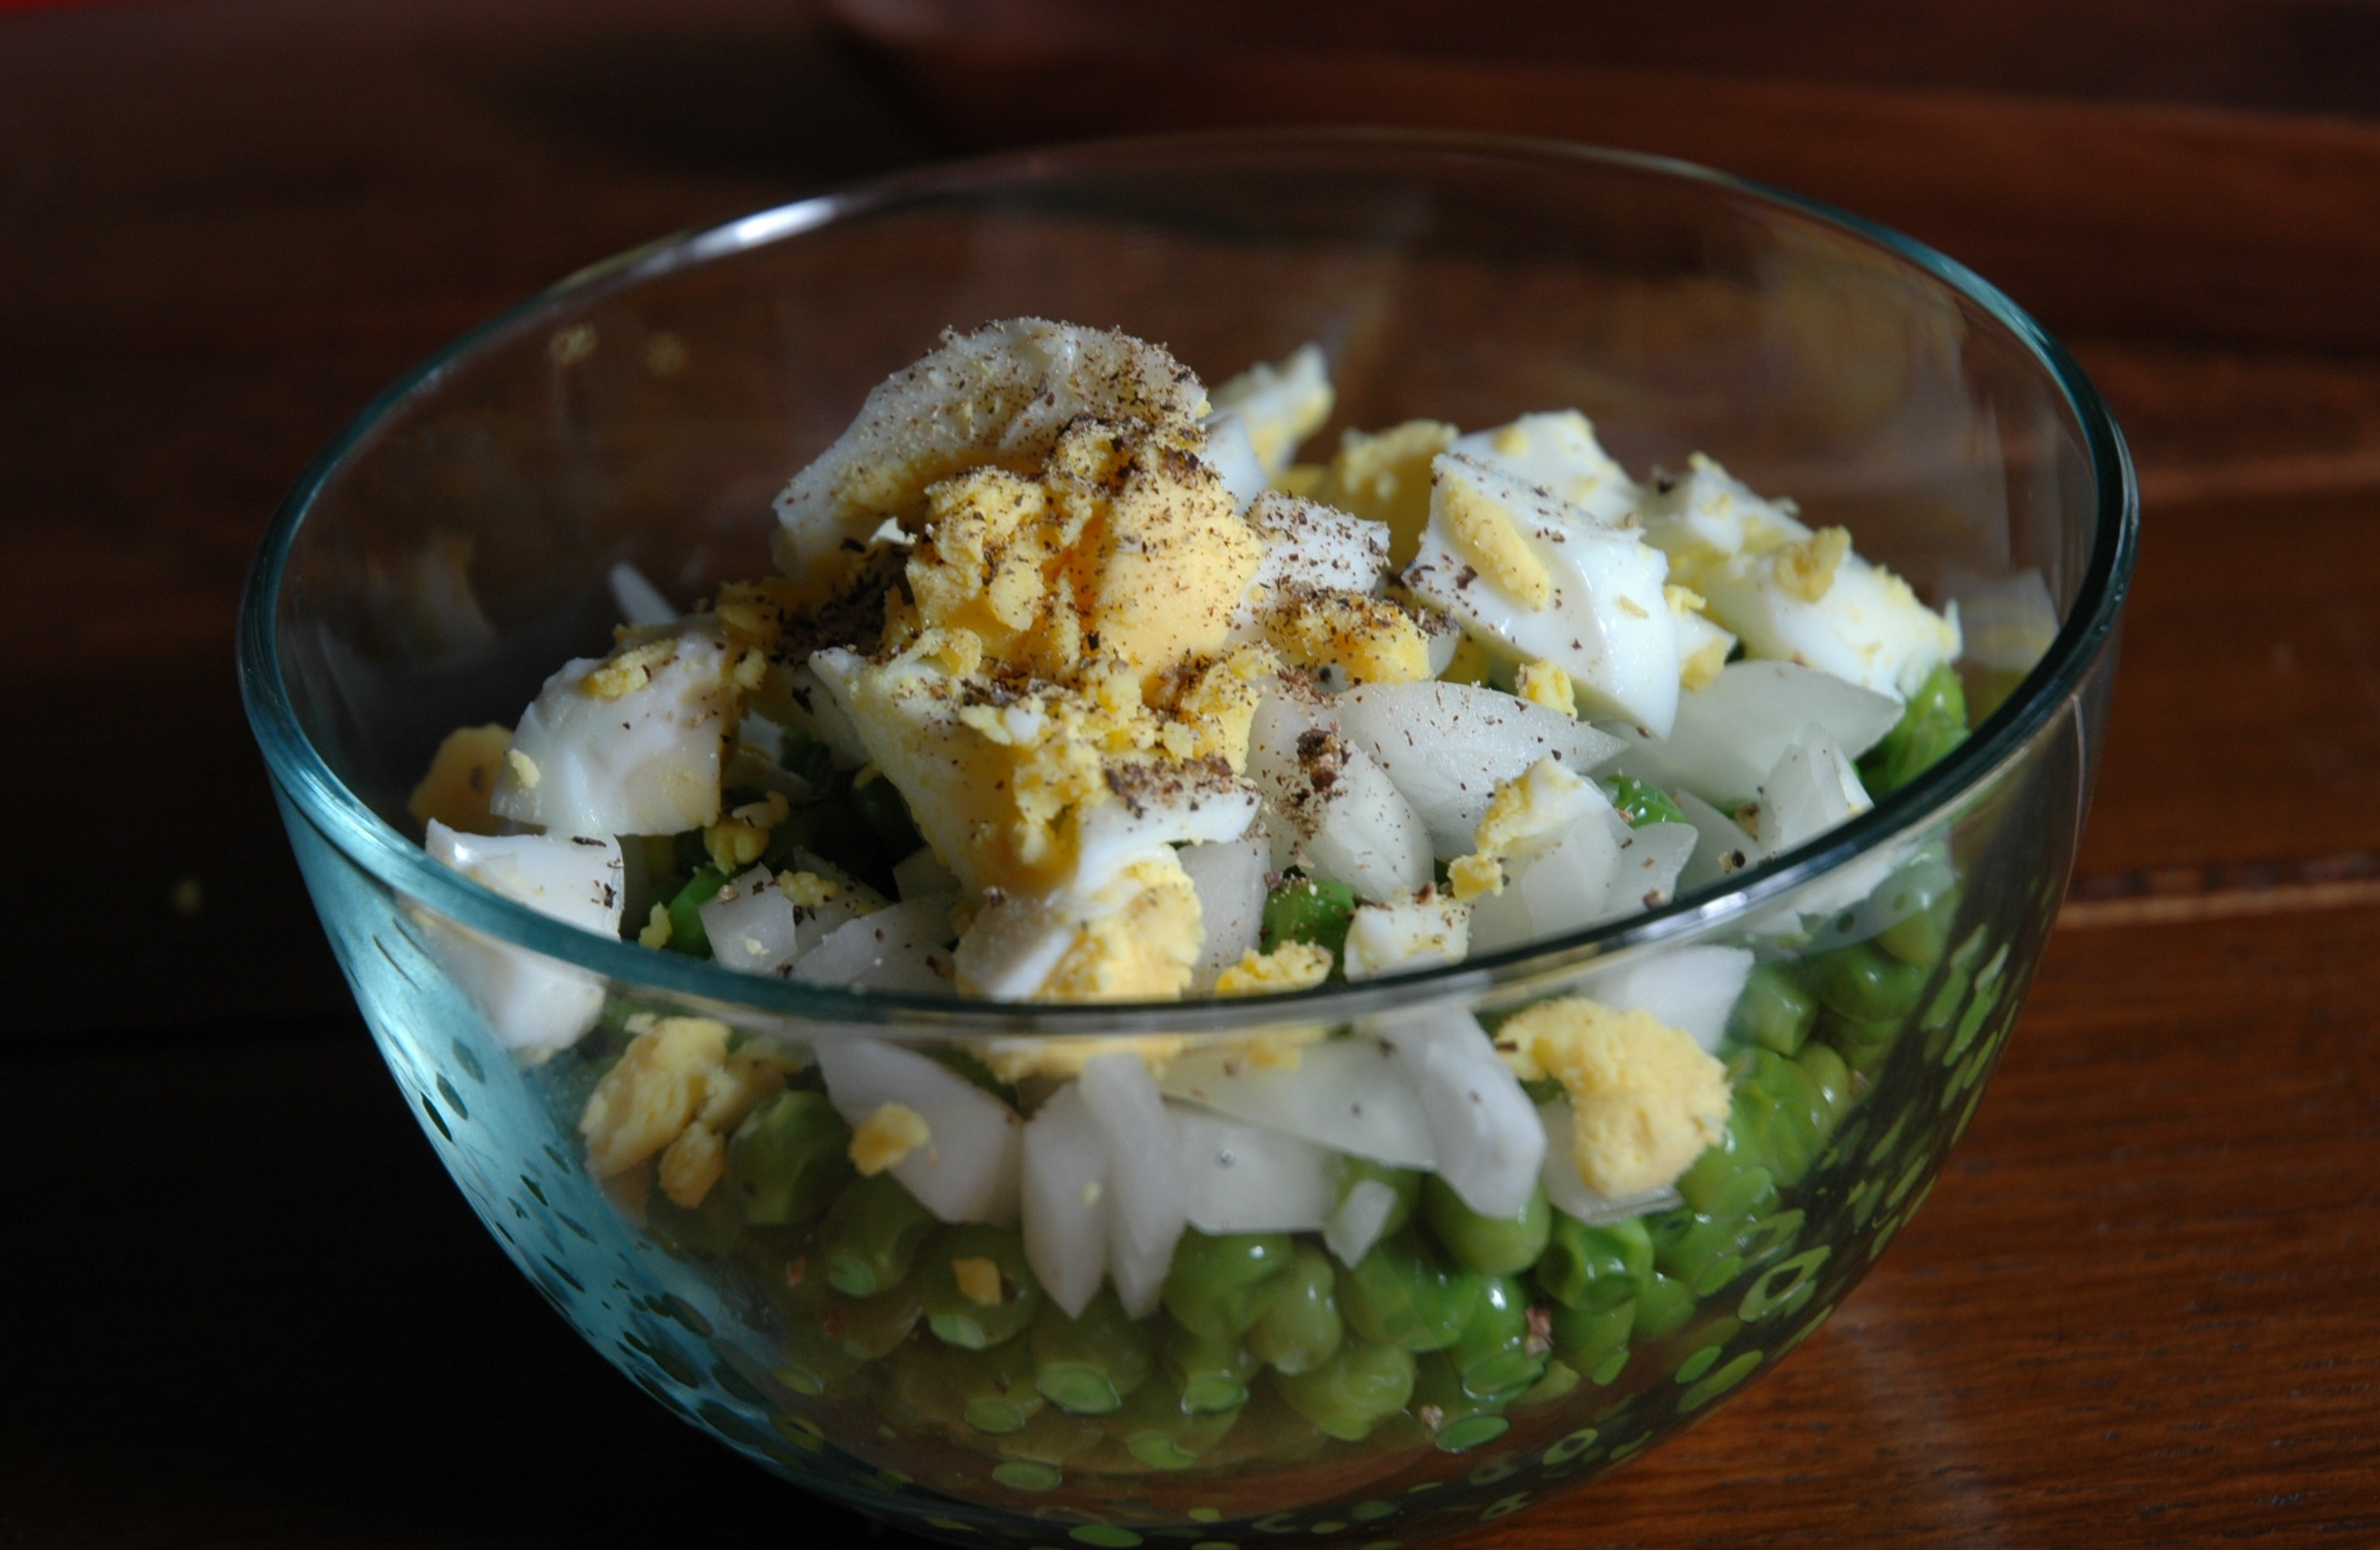boiled peas: (1145, 1273, 1733, 1427)
fried egg: (819, 371, 1790, 863)
